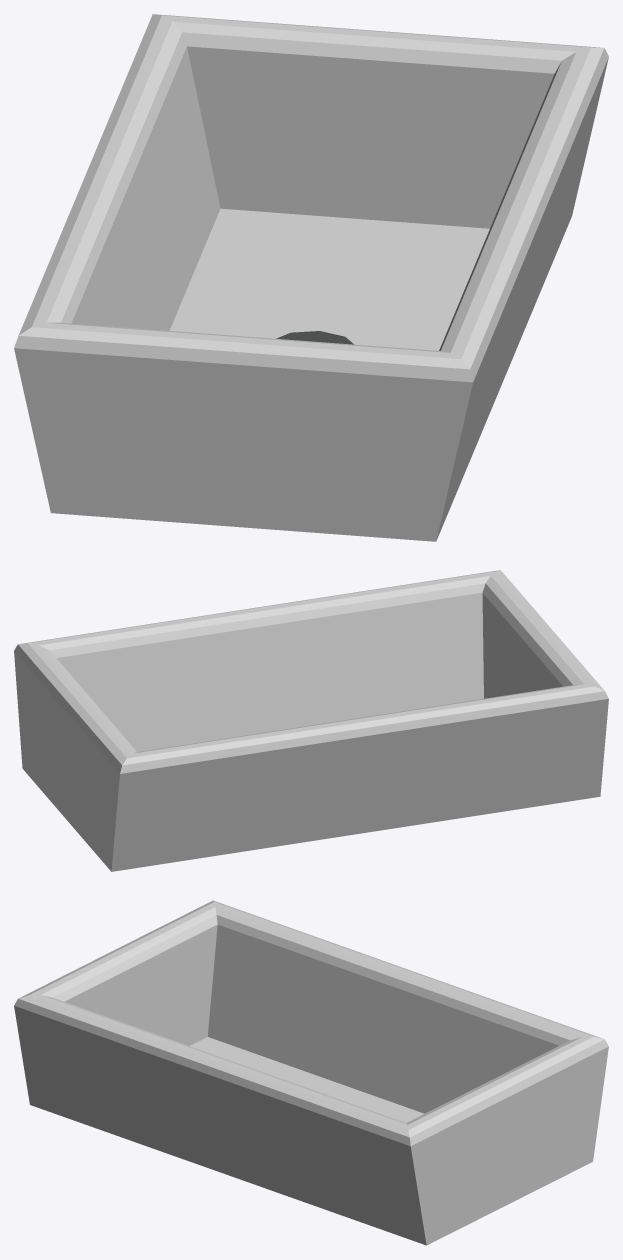
3 renders of one model, top to bottom at view 1: azimuth 30°, elevation 25°; view 2: azimuth 150°, elevation 25°; view 3: azimuth 270°, elevation 25°, orthographic. The views are drawn at different scales.
Parts seen in each view (by area): view 1: shower_bas001_White_0; view 2: shower_bas001_White_0; view 3: shower_bas001_White_0.
Boxes of the visible parts, x1,y1,x2,y2 form: shower_bas001_White_0: (14,14,608,541); shower_bas001_White_0: (14,570,608,871); shower_bas001_White_0: (14,900,608,1245).
Bounding box in the file's own units: 1.83 × 0.4152 × 1.91.
Materials: 2 (1 with a texture image).
